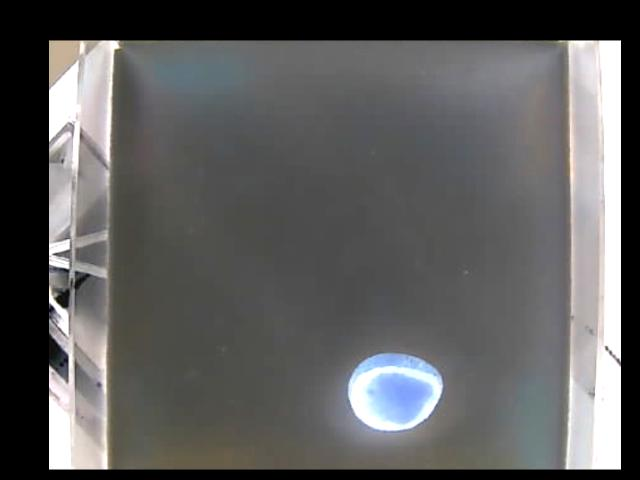Potato: (345, 350, 444, 432)
